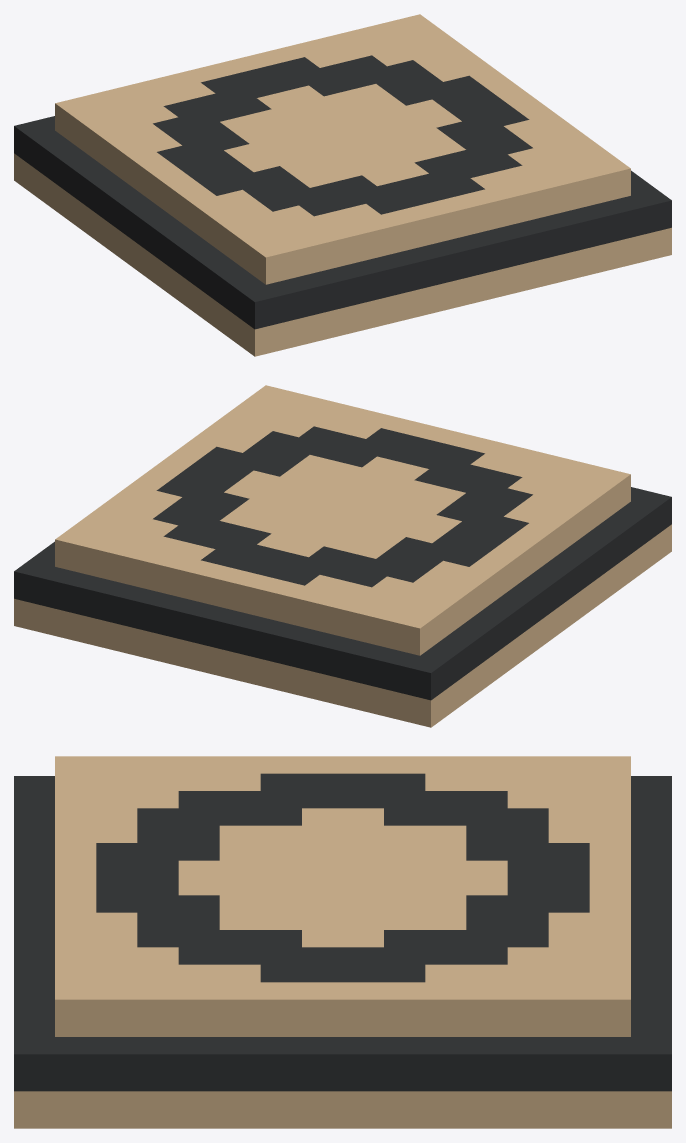
File: o-v3-tan-black.gltf
3 renders of one model, top to bottom at view 1: azimuth 30°, elevation 25°; view 2: azimuth 150°, elevation 25°; view 3: azimuth 270°, elevation 25°, orthographic. The views are drawn at different scales.
Parts seen in each view (by area): view 1: Untitled; view 2: Untitled; view 3: Untitled.
Boxes of the visible parts, x1,y1,x2,y2 form: Untitled: (14,14,671,356); Untitled: (14,385,671,727); Untitled: (14,756,671,1128).
Bounding box in the file's own units: 1.6 × 0.3 × 1.6.
Materials: 1 (1 with a texture image).
